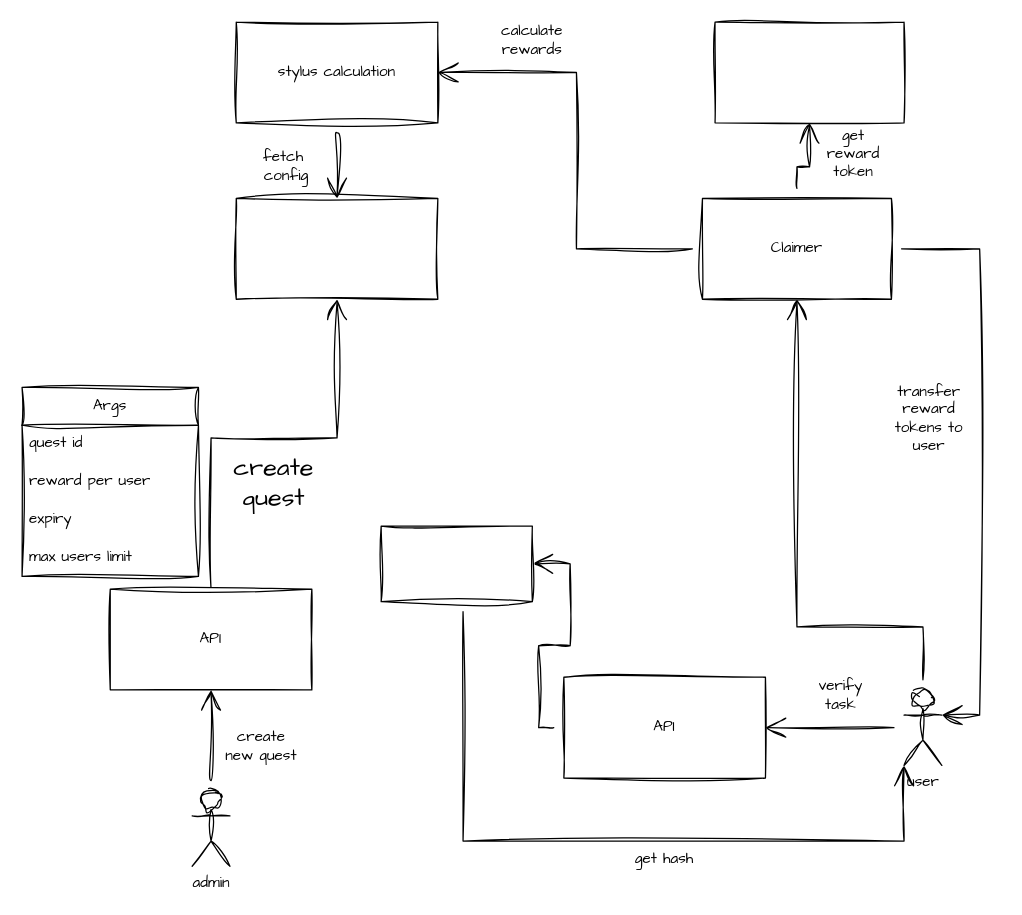
Some shapes in this 1022 by 915 pixel diagram are drawn without their labels. The box of each missing label's shape, as (x1, y1, x2, y2) in pixels:
Quests storage: (235, 197, 438, 299)
sign signature: (380, 525, 532, 602)
Vault: (714, 21, 904, 123)
